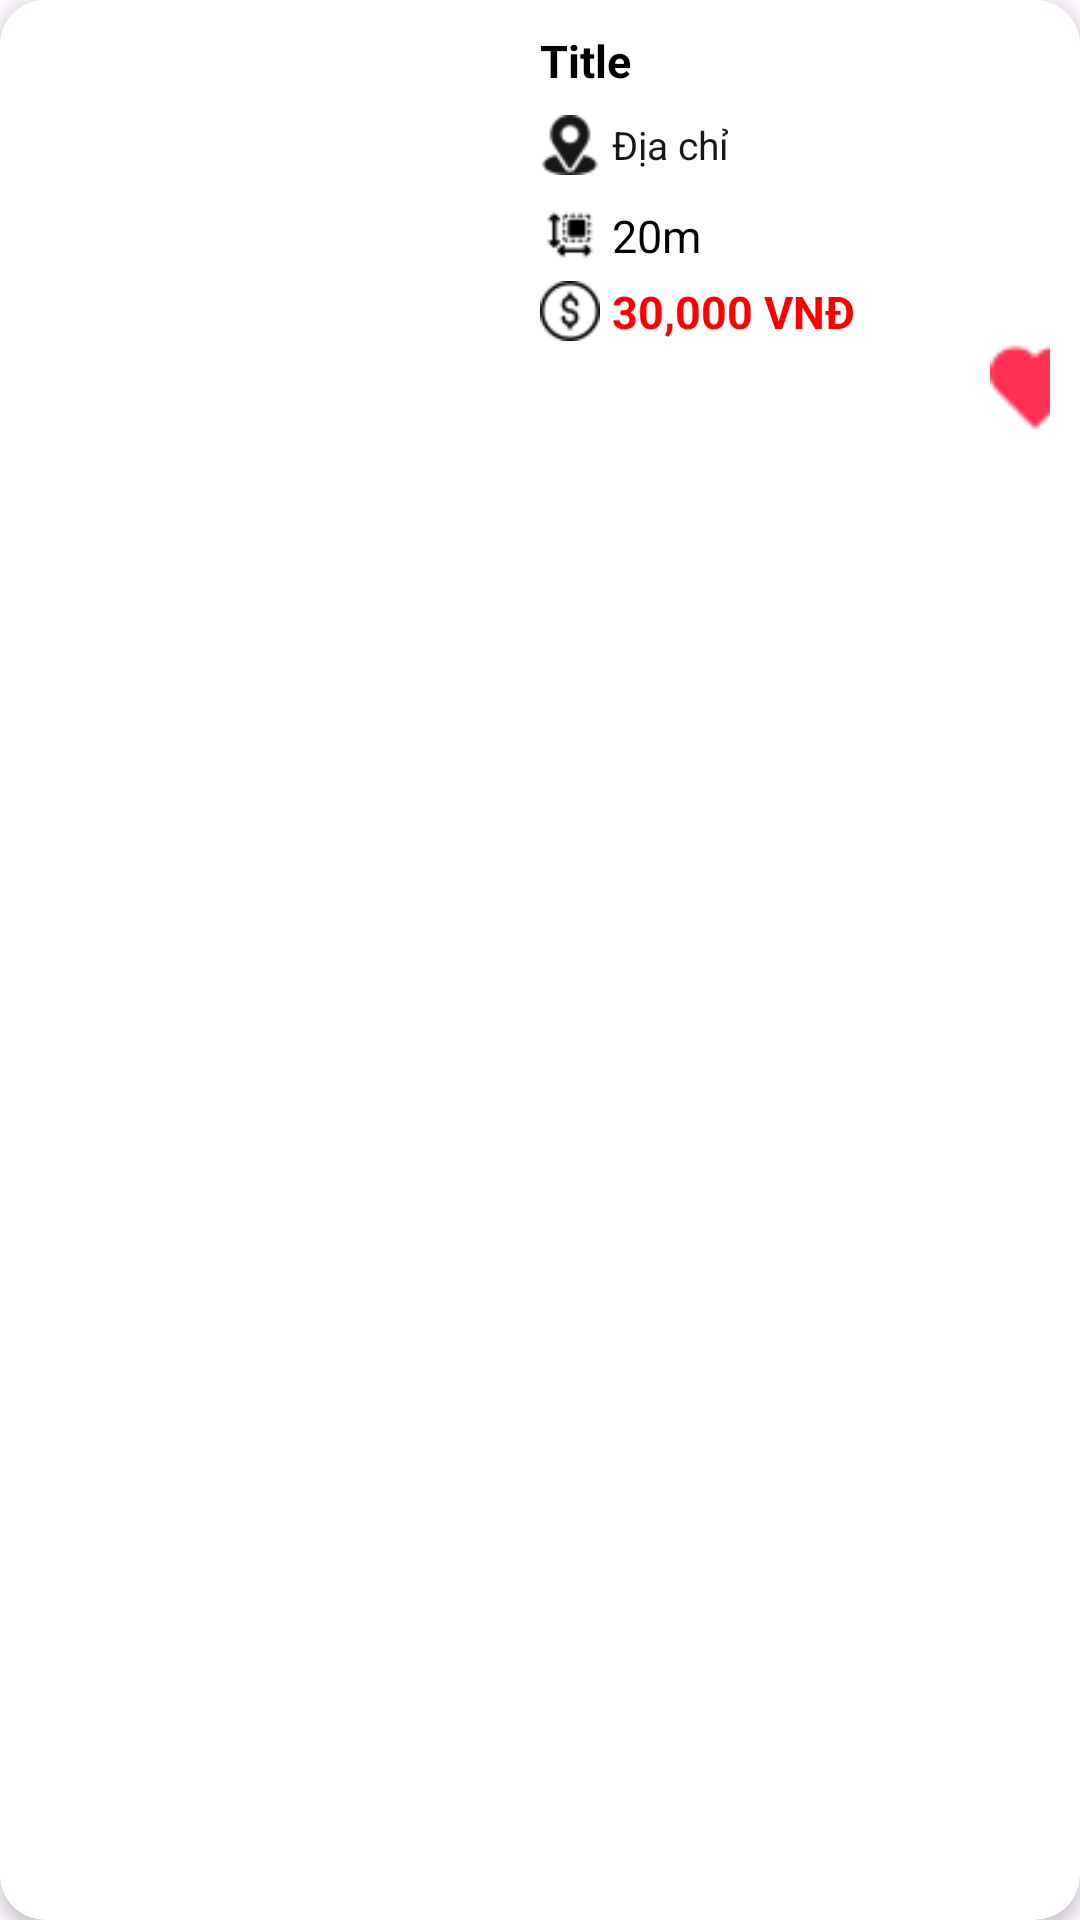

Icons on this 1080w x 1920h Android screen, each with its box as (x1, y1, x2, y2):
dollar: (540, 281, 600, 341)
location: (542, 115, 598, 175)
size: (547, 212, 593, 258)
